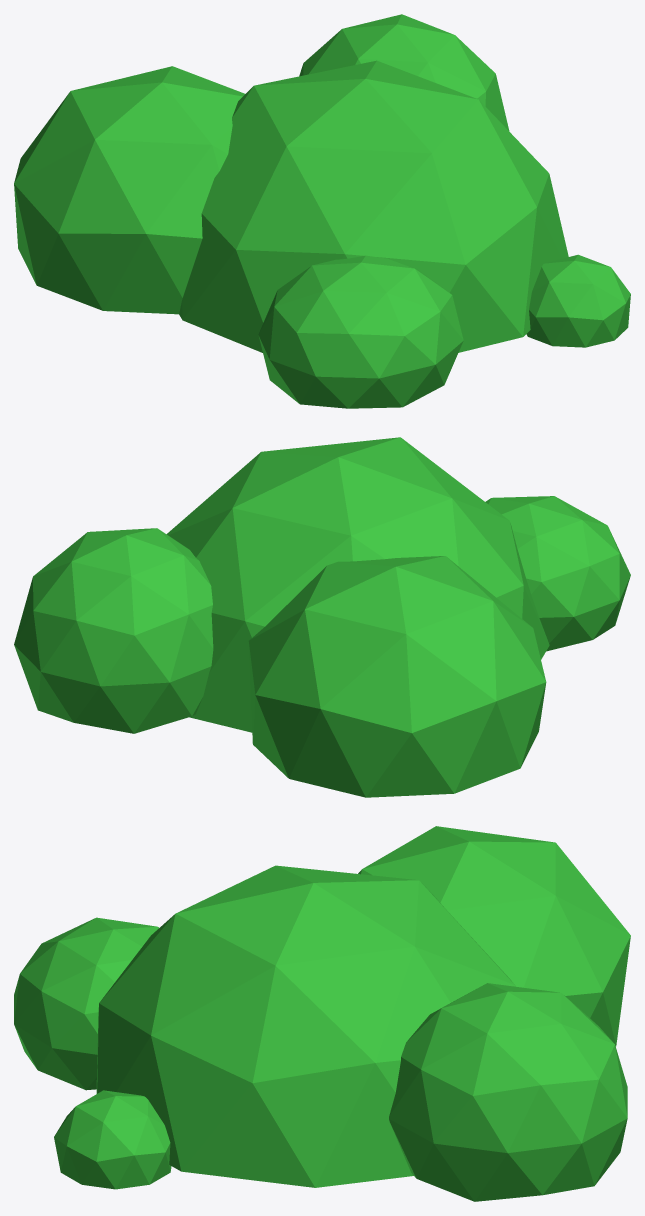
Rendered from bushwoberry.fbx.
3 views of the same model, one above another, from view 1: azimuth 30°, elevation 25°; view 2: azimuth 150°, elevation 25°; view 3: azimuth 270°, elevation 25° (orthographic). The views are drawn at different scales.
Visible parts, largest first — view 1: Icosphere.002; view 2: Icosphere.002; view 3: Icosphere.002.
Boxes of the visible parts, x1,y1,x2,y2 form: Icosphere.002: (14,14,630,408); Icosphere.002: (14,437,630,797); Icosphere.002: (14,826,630,1201).
Size of the model in its own units: 272 by 113 by 284.
